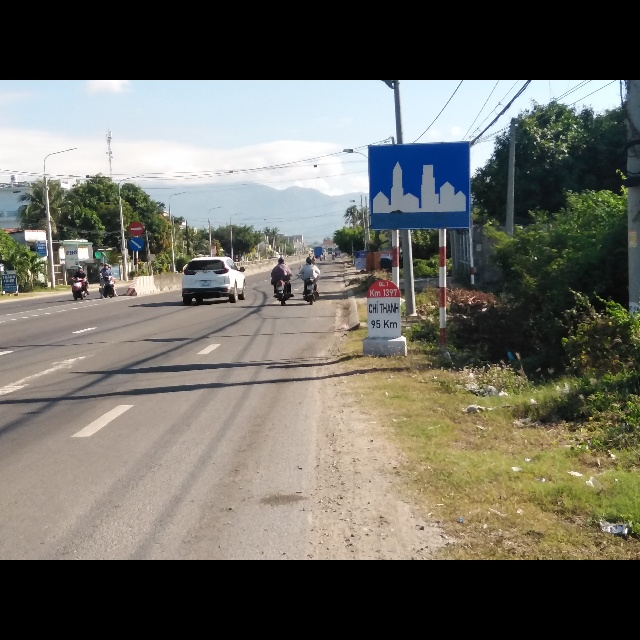Khu đông dân cư: (367, 143, 472, 229)
